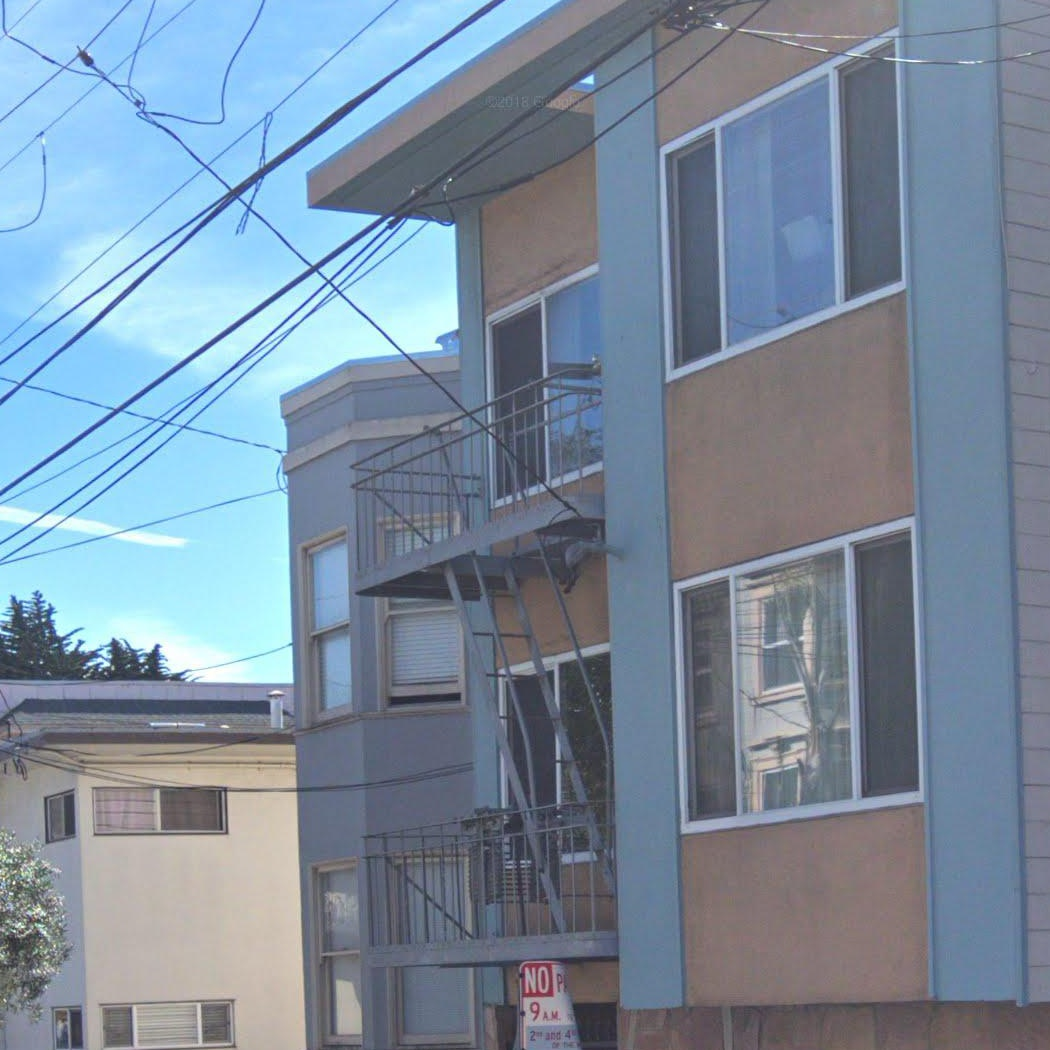No Parking: (516, 958, 584, 1050)
